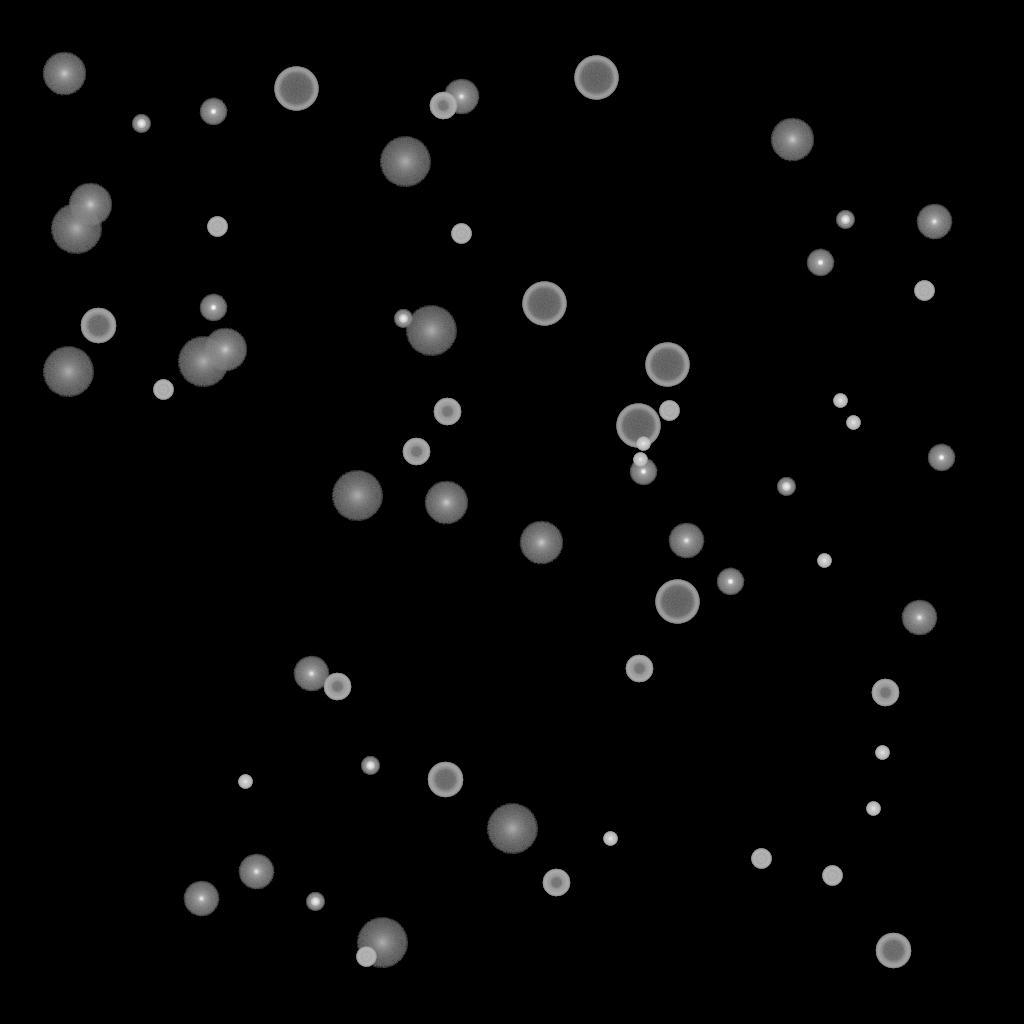depth:-10: (629, 458, 657, 486), (199, 294, 227, 322), (199, 98, 227, 126), (927, 444, 955, 472), (716, 568, 744, 596), (806, 249, 834, 277)
depth:-20: (394, 310, 412, 328), (132, 115, 150, 133), (306, 893, 324, 911), (361, 757, 379, 775), (777, 478, 795, 496), (836, 211, 854, 229)
depth:-30: (833, 394, 847, 408), (636, 437, 650, 451), (238, 775, 252, 789), (633, 453, 647, 467), (846, 416, 860, 430), (866, 802, 880, 816), (603, 832, 617, 846), (875, 746, 889, 760), (817, 554, 831, 568)
depth:-40: (751, 849, 771, 869), (914, 281, 934, 301), (356, 947, 376, 967), (451, 224, 471, 244), (207, 217, 227, 237), (153, 380, 173, 400), (822, 866, 842, 886), (659, 401, 679, 421)
depth:-50: (625, 655, 653, 683), (871, 679, 899, 707), (433, 398, 461, 426), (402, 438, 430, 466), (323, 673, 351, 701), (542, 869, 570, 897), (429, 92, 457, 120)
depth:-60: (80, 308, 116, 344), (427, 762, 463, 798), (875, 933, 911, 969)
depth:-70: (645, 343, 689, 387), (522, 282, 566, 326), (574, 56, 618, 100), (274, 67, 318, 111), (616, 404, 660, 448), (655, 580, 699, 624)
depth:0: (901, 600, 937, 636), (183, 881, 219, 917), (668, 523, 704, 559), (293, 656, 329, 692), (443, 79, 479, 115), (238, 854, 274, 890), (916, 204, 952, 240)
depth:10: (519, 521, 563, 565), (770, 118, 814, 162), (424, 481, 468, 525), (203, 328, 247, 372), (68, 183, 112, 227), (42, 52, 86, 96)
depth:20: (379, 137, 431, 187), (50, 204, 102, 254), (177, 337, 229, 387), (486, 804, 538, 854), (405, 306, 457, 356), (331, 471, 383, 521), (42, 347, 94, 397), (356, 918, 408, 968)
